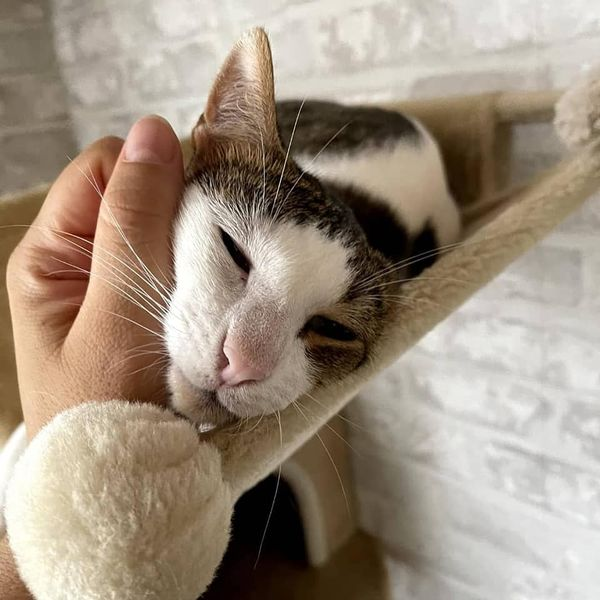cat: (133, 2, 496, 479)
